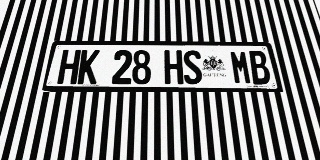2: (112, 50, 133, 84)
8: (132, 50, 151, 84)
B: (247, 51, 272, 84)
H: (57, 50, 81, 84), (164, 50, 184, 84)
K: (77, 50, 100, 84)
M: (229, 50, 253, 84)
S: (183, 50, 203, 84)
